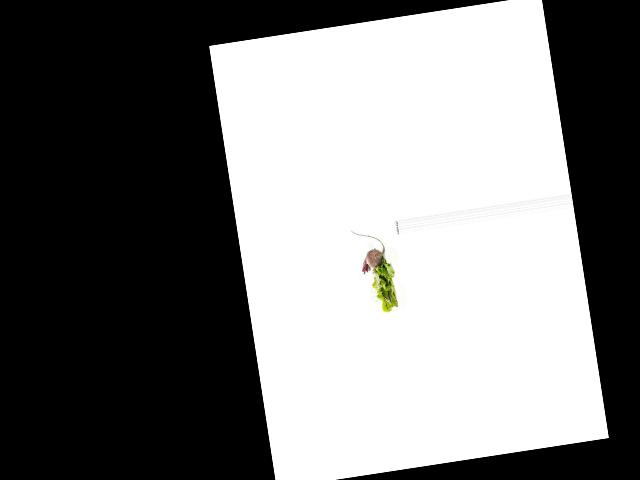beet: (350, 224, 388, 275)
